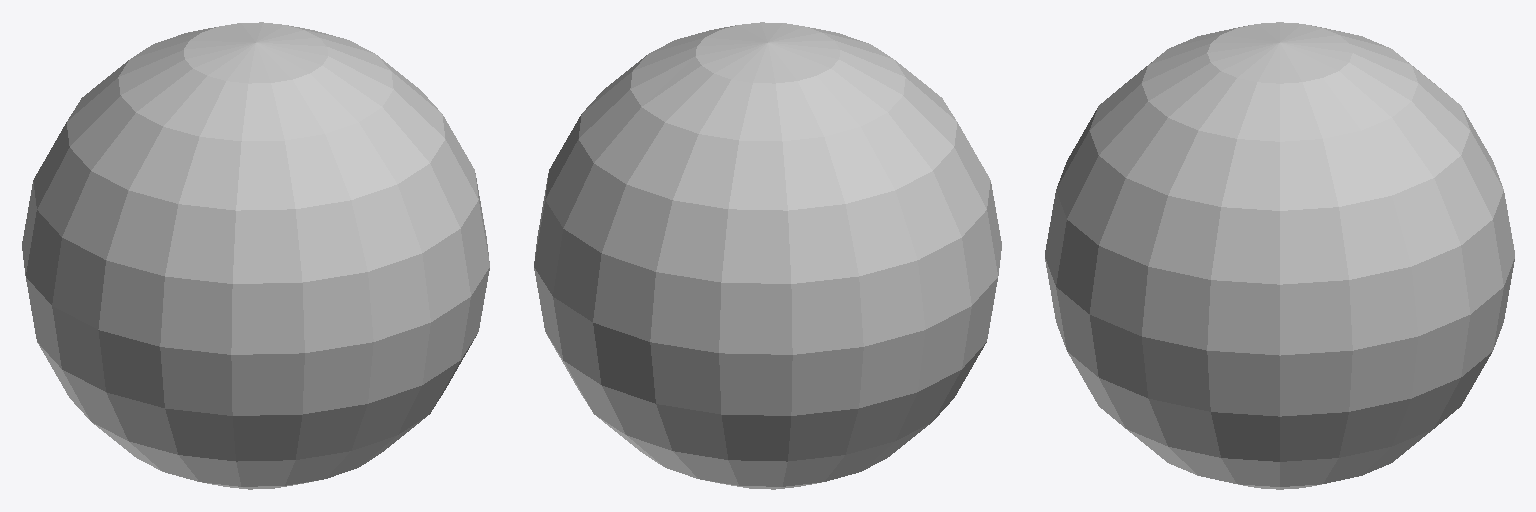
The model's file is sphere200polys.obj.
3 views of the same model, side by side, from view 1: azimuth 30°, elevation 25°; view 2: azimuth 150°, elevation 25°; view 3: azimuth 270°, elevation 25° (orthographic).
Parts seen in each view (by area): view 1: Sphere001; view 2: Sphere001; view 3: Sphere001.
Boxes of the visible parts, x1,y1,x2,y2 form: Sphere001: [22, 22, 489, 489]; Sphere001: [534, 22, 1001, 489]; Sphere001: [1045, 22, 1514, 489].
Bounding box in the file's own units: 13.81 × 13.81 × 13.81.